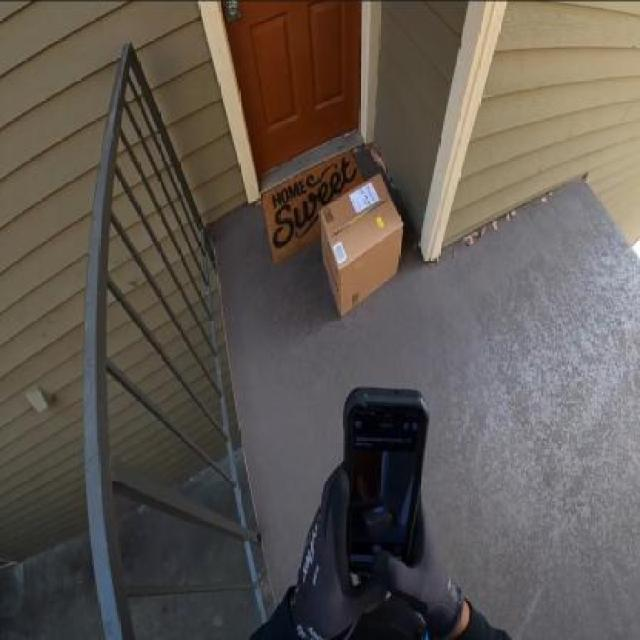cardboxes: (316, 168, 406, 326)
